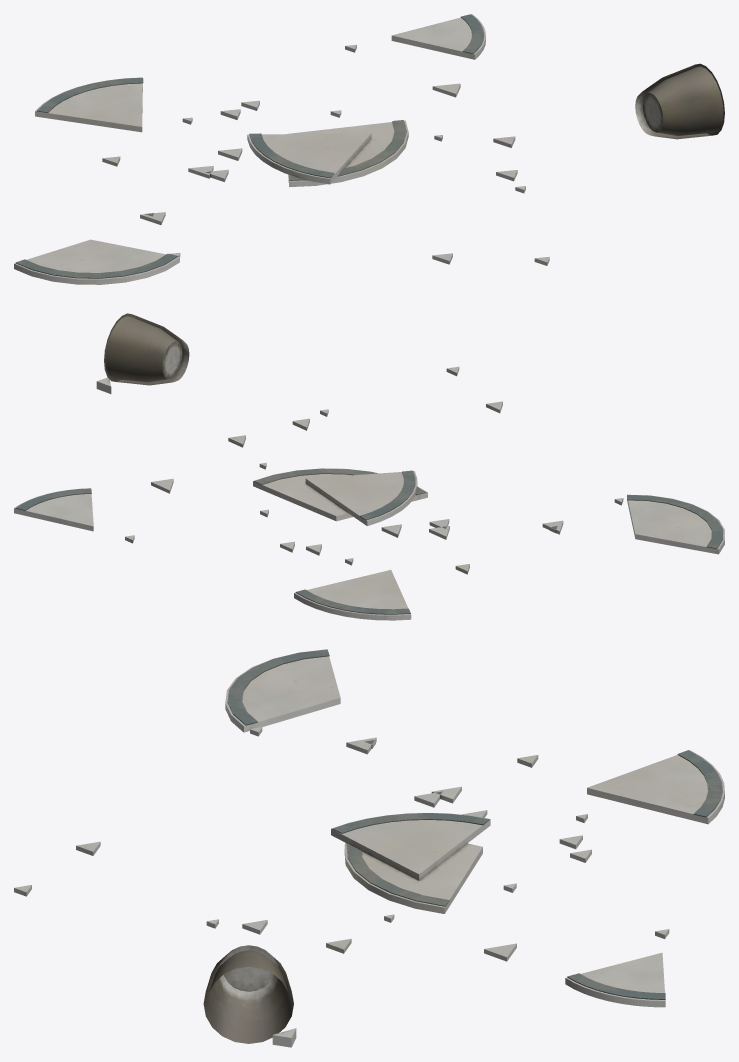
The model's file is louca_quebrada.glb.
The picture shows the model from 3 angles, top to bottom: view 1: azimuth 30°, elevation 25°; view 2: azimuth 150°, elevation 25°; view 3: azimuth 270°, elevation 25°; orthographic projection. The views are drawn at different scales.
Visible parts, largest first — view 1: louca; view 2: louca; view 3: louca.
Part boxes in pixels (bbox=[...]): louca: bbox=[14, 14, 724, 284]; louca: bbox=[14, 313, 724, 620]; louca: bbox=[14, 649, 724, 1047].
Bounding box in the file's own units: 0.779 × 0.0745 × 0.5971.
1 material, 1 textured.
